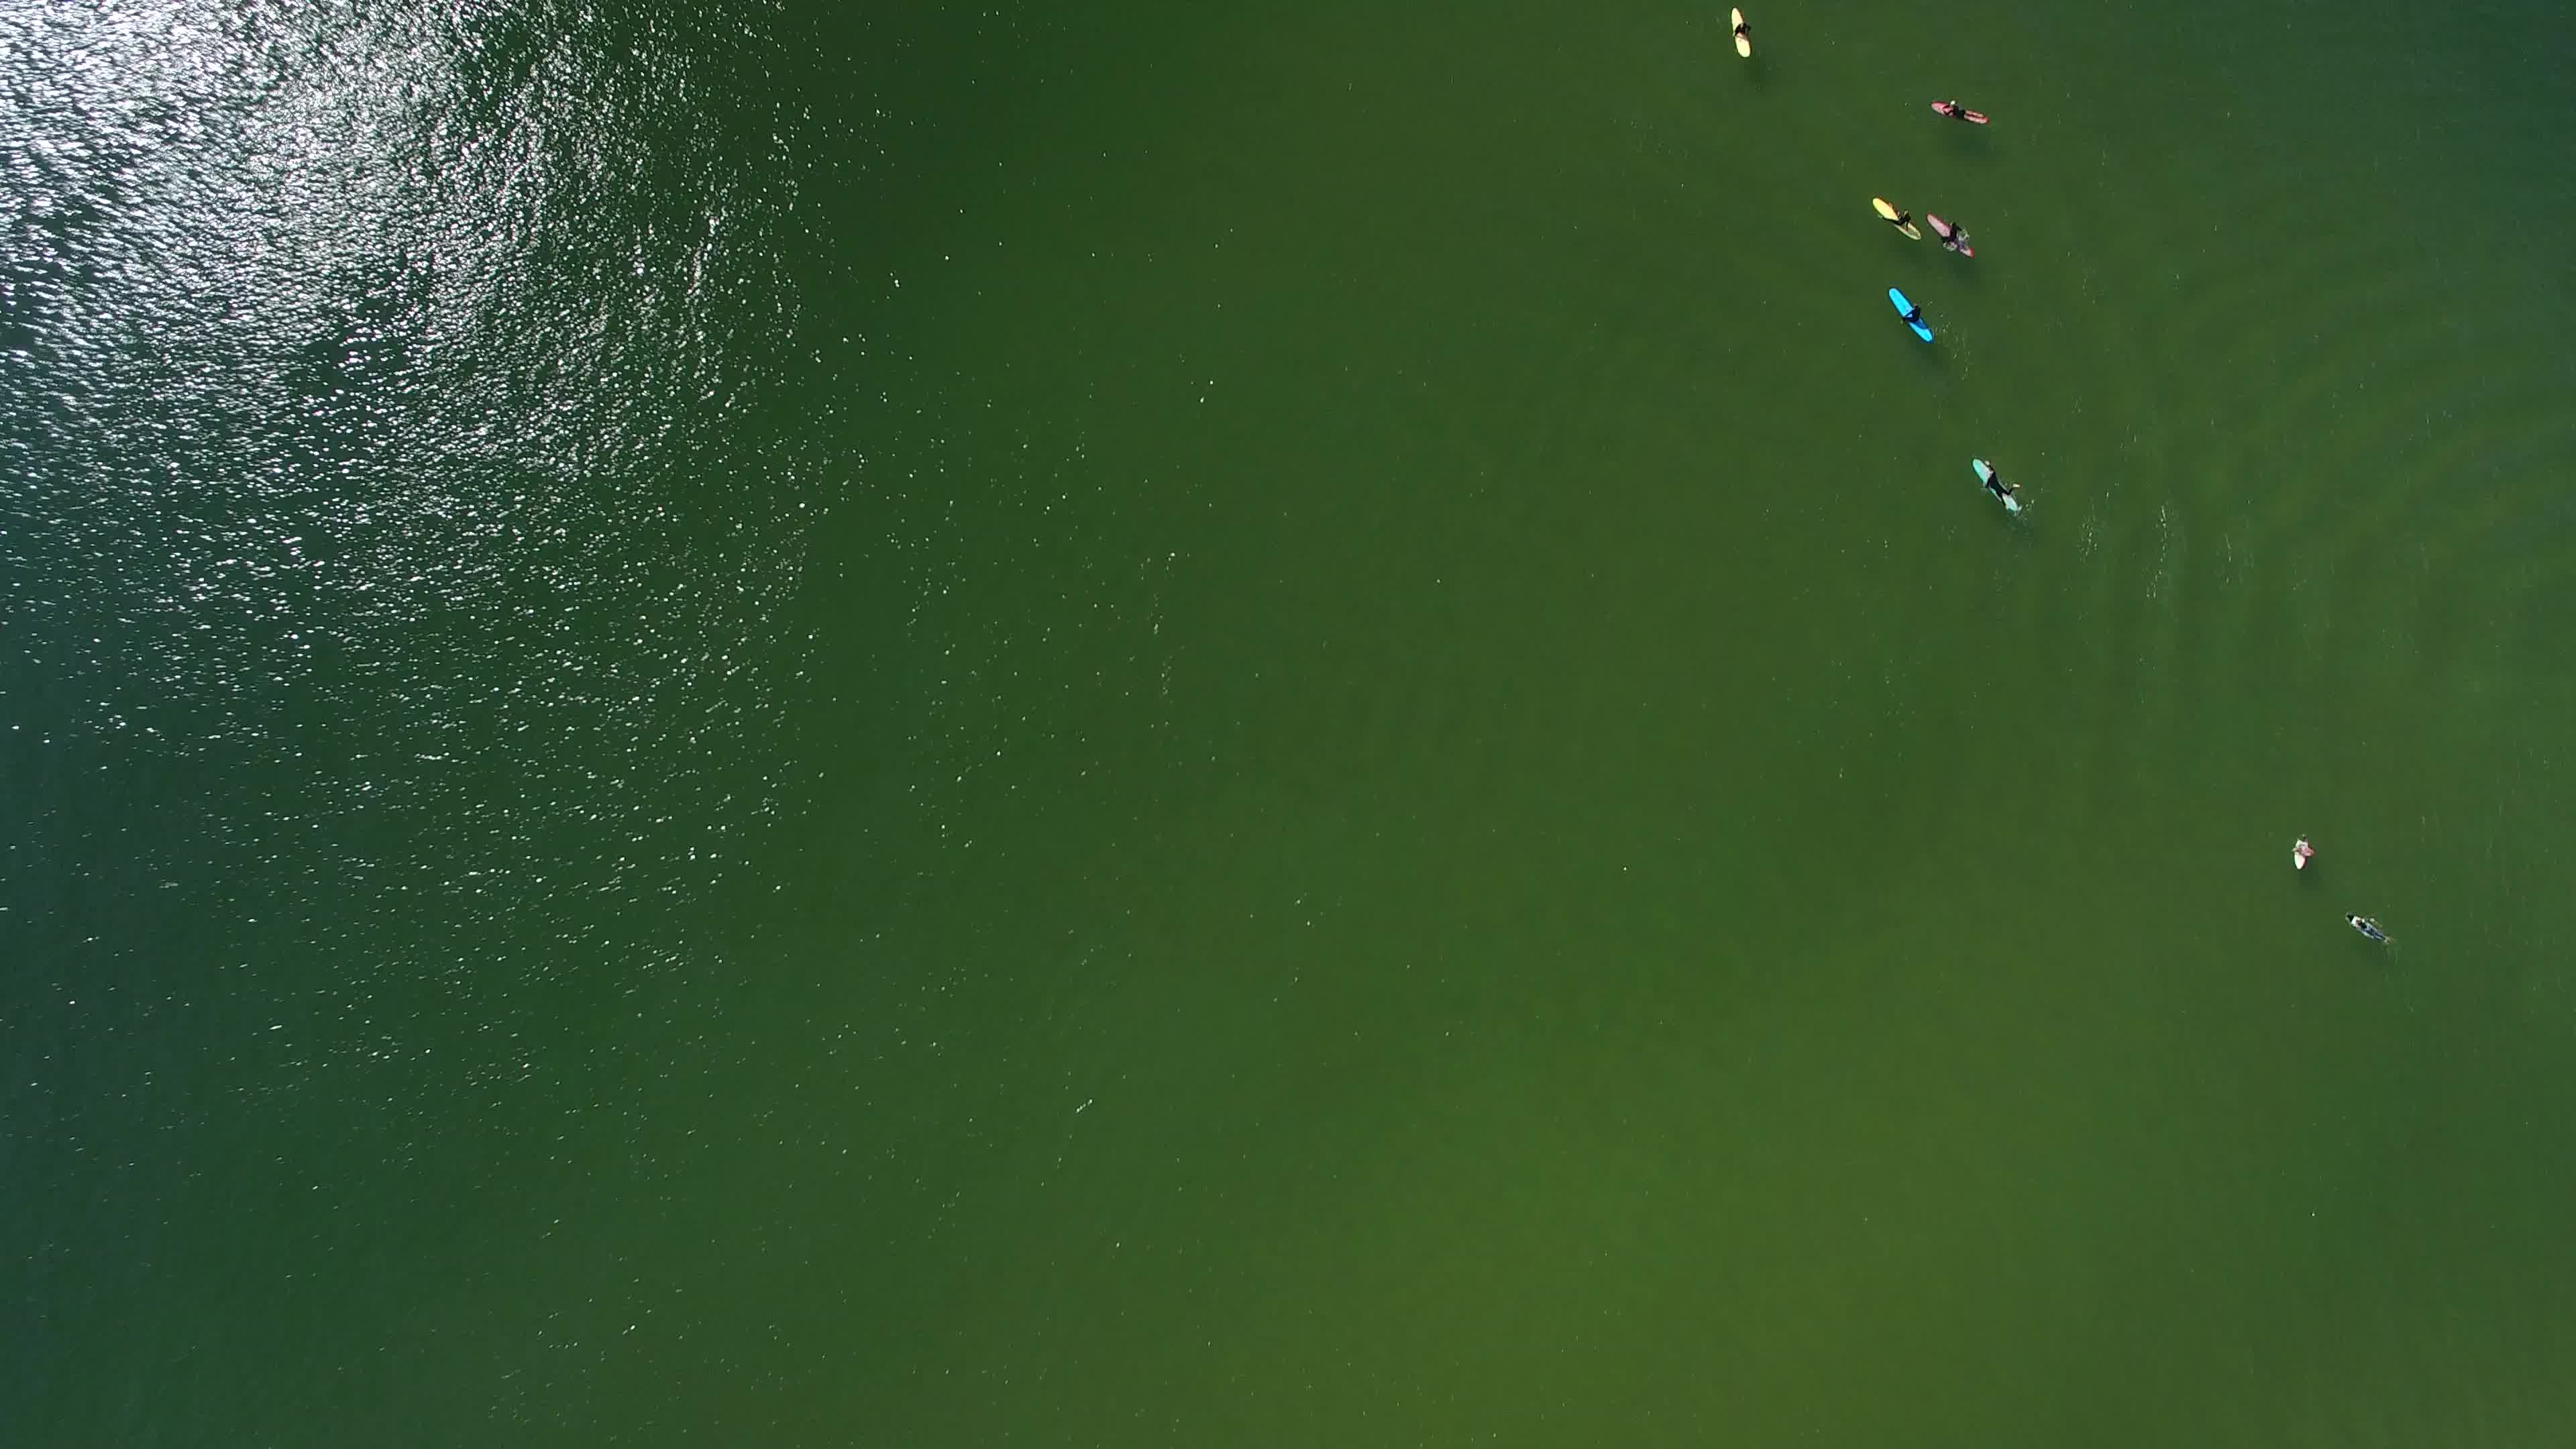surfer: (1971, 453, 2033, 524), (1881, 278, 1941, 350), (1867, 191, 1927, 248), (1928, 211, 1980, 265), (2346, 908, 2399, 955), (1927, 97, 1996, 131), (1720, 4, 1759, 62), (2282, 832, 2318, 874)
